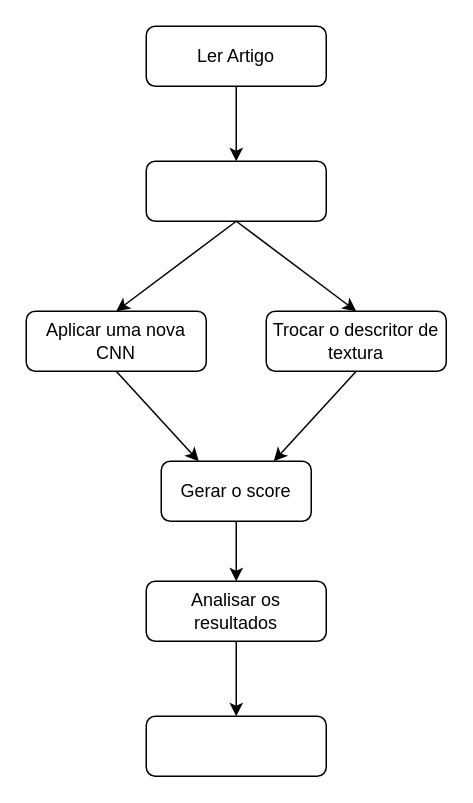
This 473x803 diagram has some shape labels left out. Each missing label, with the centre of its shape:
"Explicar o proposto" goes at [235,190].
"Gerar uma tabela de scores por classe" goes at [235,745].
